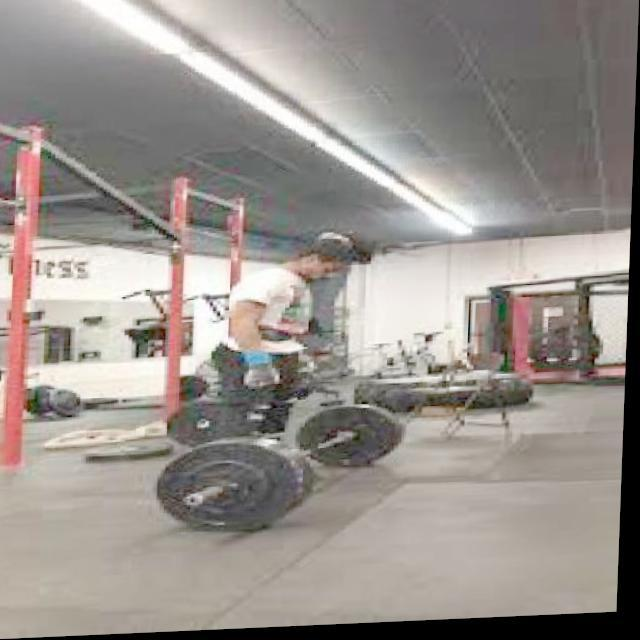barbell: (154, 435, 309, 544)
